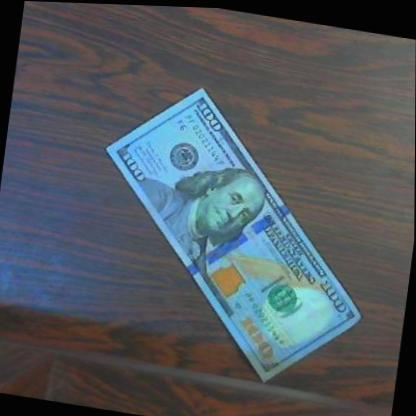one_hundred-front: (76, 71, 393, 395)
